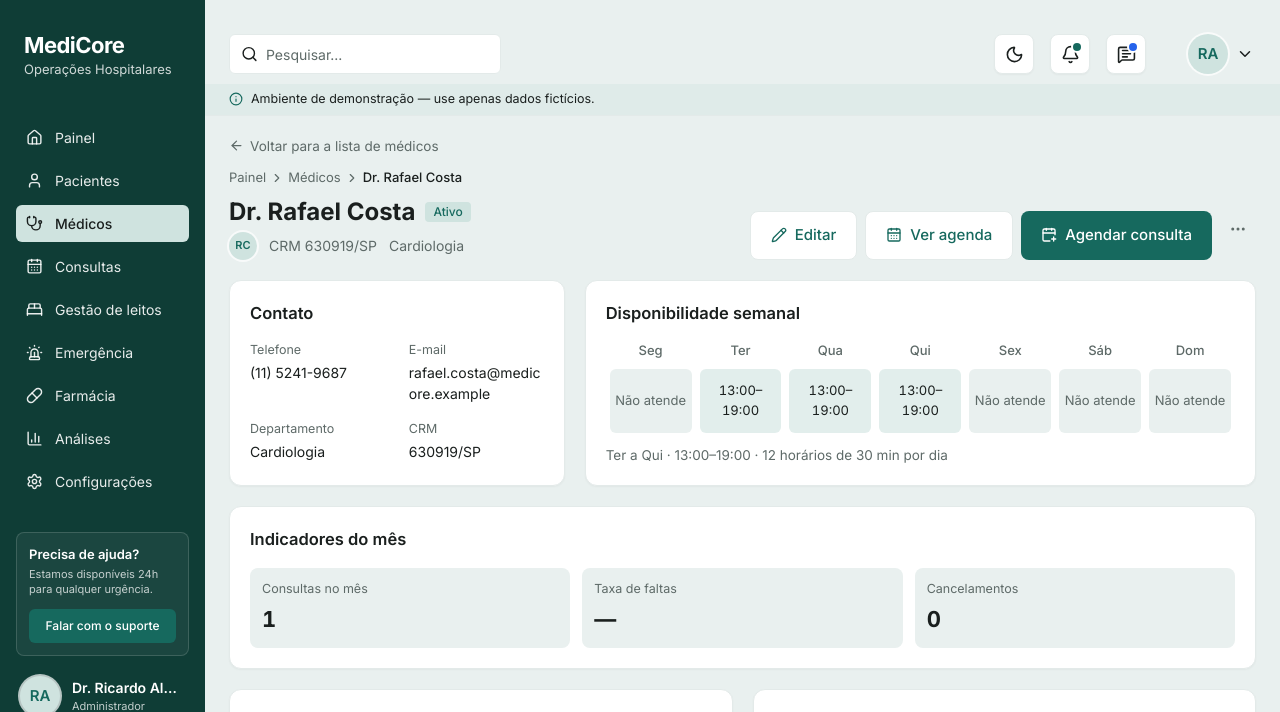
Inativação (P8) › bloqueia até zerar as consultas futuras; a lista se atualiza ao cancelar
Click the button named "Mais ações para Dr. Rafael Costa". click: (1238,229)
box: [1220, 211, 1256, 247]
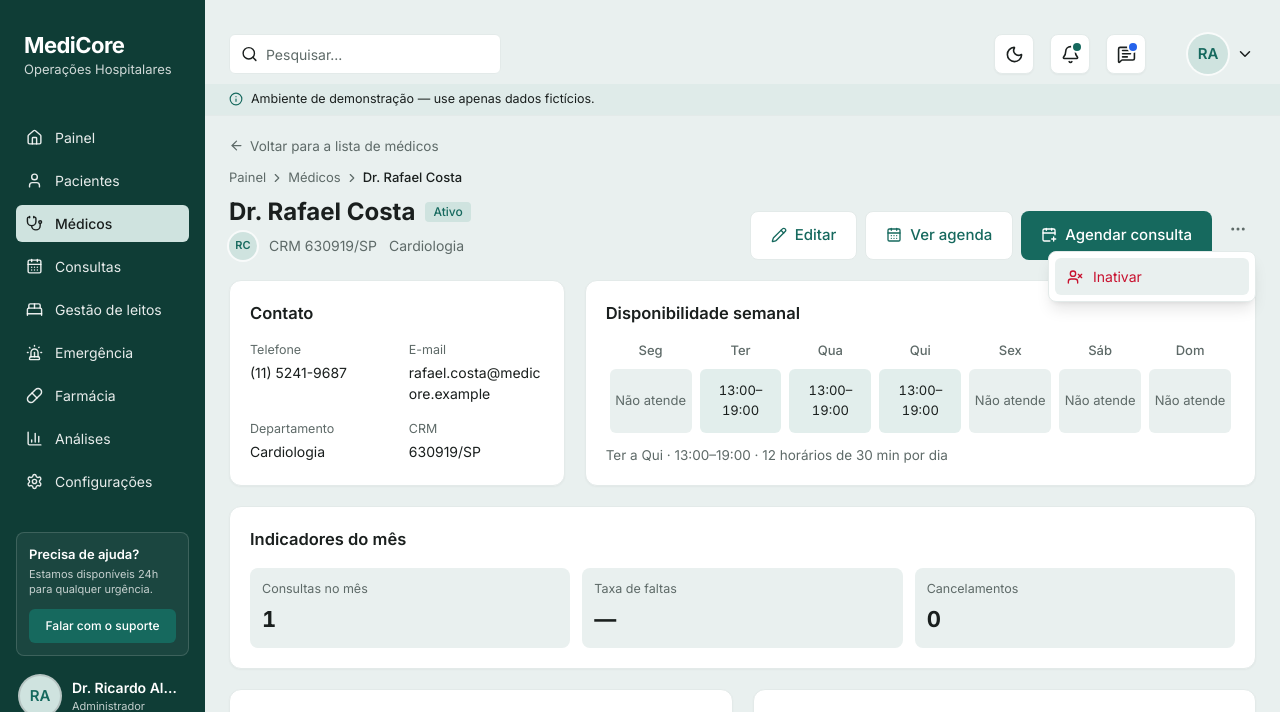
Click the menu item "Inativar". click: (1152,276)
box: [1055, 258, 1249, 295]
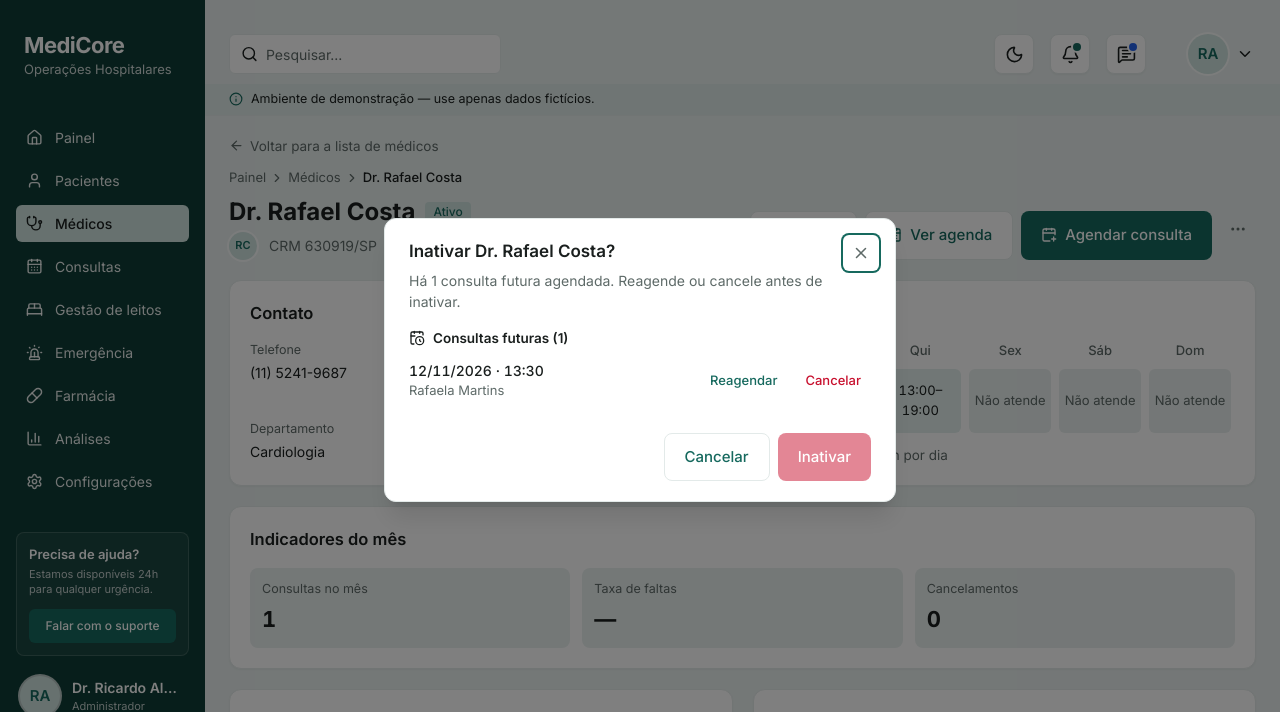
expect the button with aria-label "Cancelar consulta de" is shown: met
expect the button "Inativar" is disabled: met, box [778, 433, 871, 481]
Click the button with aria-label "Cancelar consulta de". click: (833,381)
box: [795, 365, 871, 396]
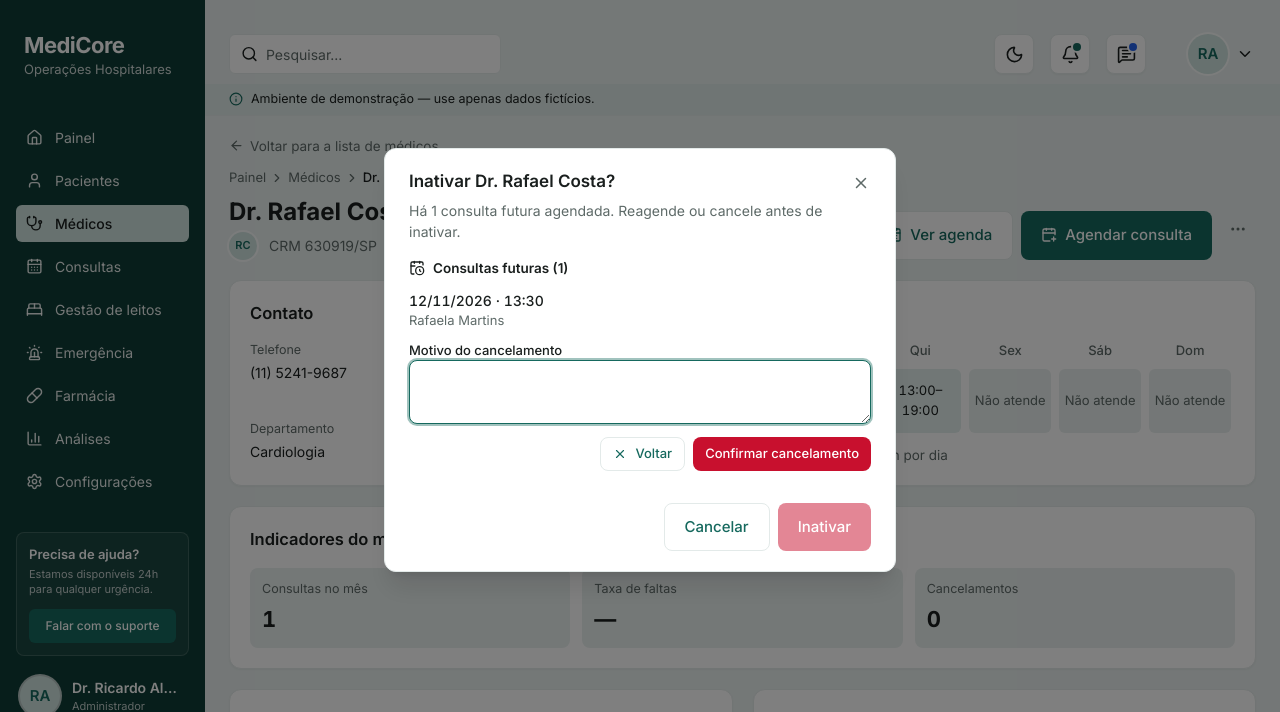
Type "Médico de licença" into the text box labelled "Motivo do cancelamento". click: (640,392)
box: [409, 360, 871, 424]
Click the button "Confirmar cancelamento". click: (782,454)
box: [693, 437, 871, 471]
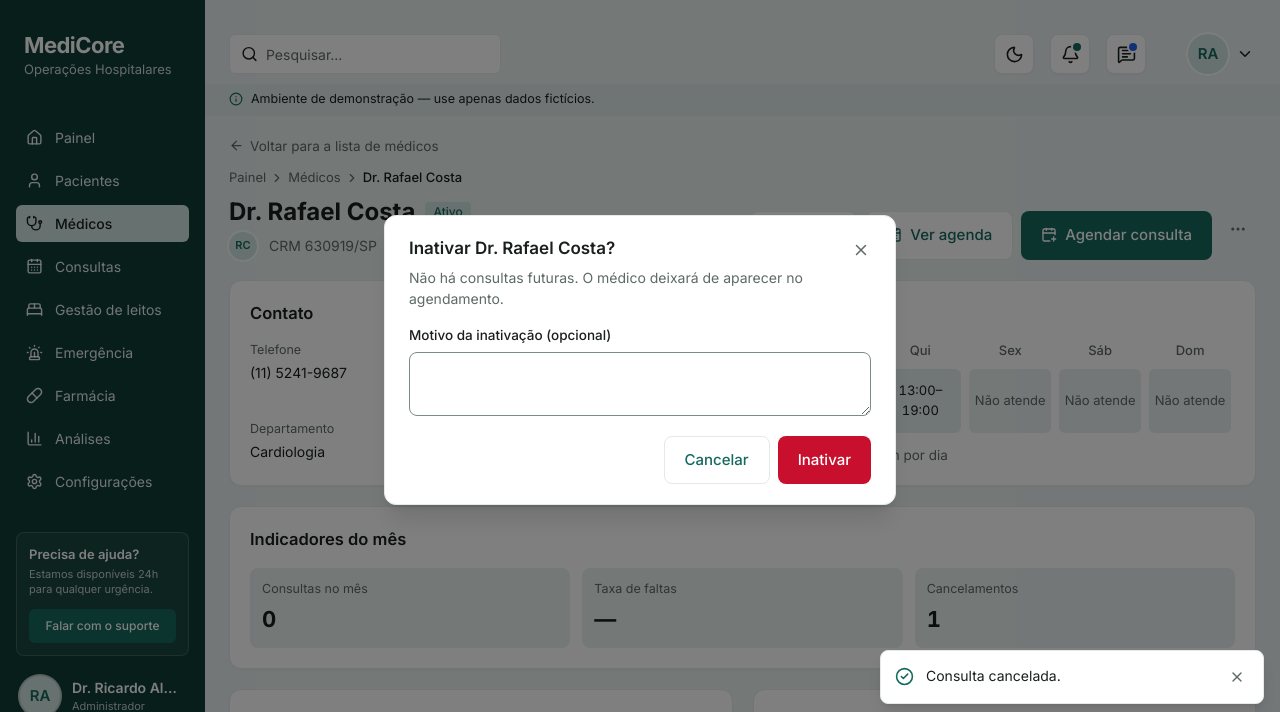
expect the button "Inativar" is enabled: met, box [778, 436, 871, 484]
expect the dialog "Inativar Dr. Rafael Costa?" shows "Não há consultas futuras": met, box [409, 269, 803, 307]
Type "Licença" into the text box labelled "Motivo da inativação (opcional)". click: (640,384)
box: [409, 352, 871, 416]
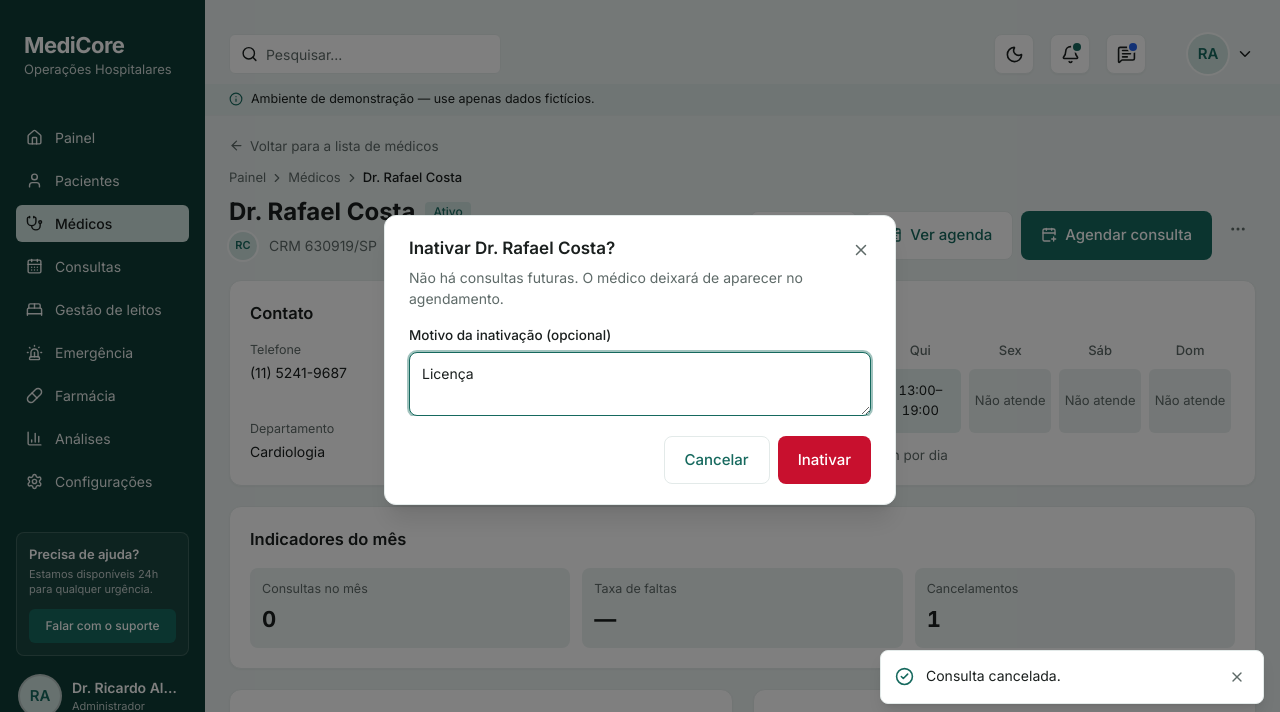
Click the button "Inativar". click: (824,460)
box: [778, 436, 871, 484]
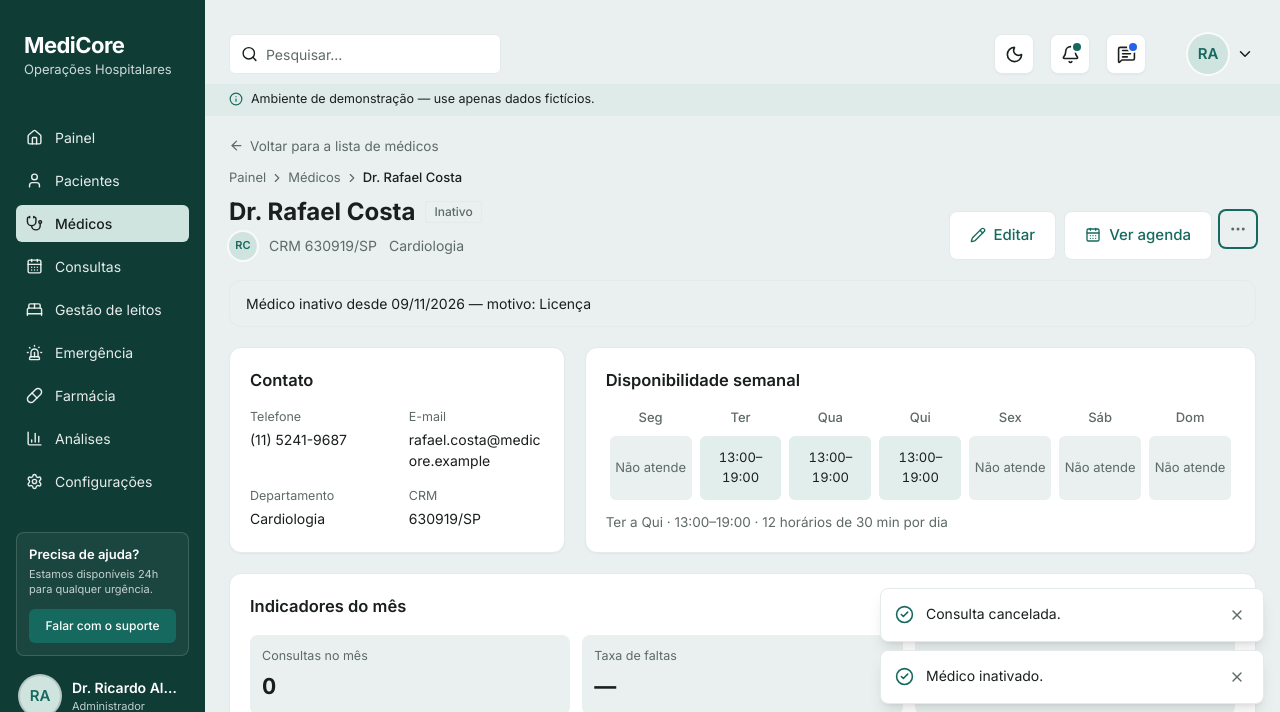
expect the text "Médico inativado." is shown: met, box [926, 667, 1043, 684]
expect the text "Médico inativo desde 09/11/2026 — motivo: Licença" is shown: met, box [229, 280, 1256, 326]
